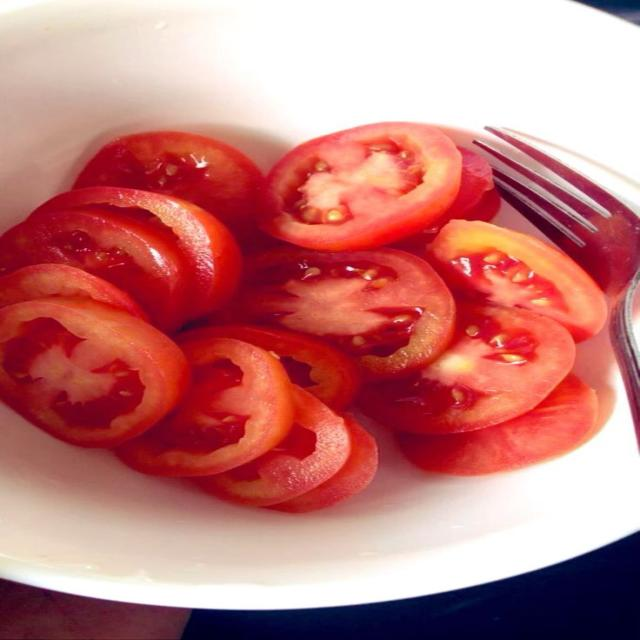sliced tomatoe: (0, 298, 187, 447), (360, 305, 575, 433), (243, 248, 454, 378), (30, 187, 239, 318), (261, 122, 461, 251), (117, 339, 293, 476), (0, 207, 187, 330), (429, 221, 606, 341), (397, 375, 597, 475), (74, 132, 263, 235), (197, 387, 351, 506), (177, 325, 360, 410), (395, 147, 500, 254), (270, 414, 378, 512), (0, 264, 146, 319), (393, 188, 501, 256), (446, 147, 493, 218)
